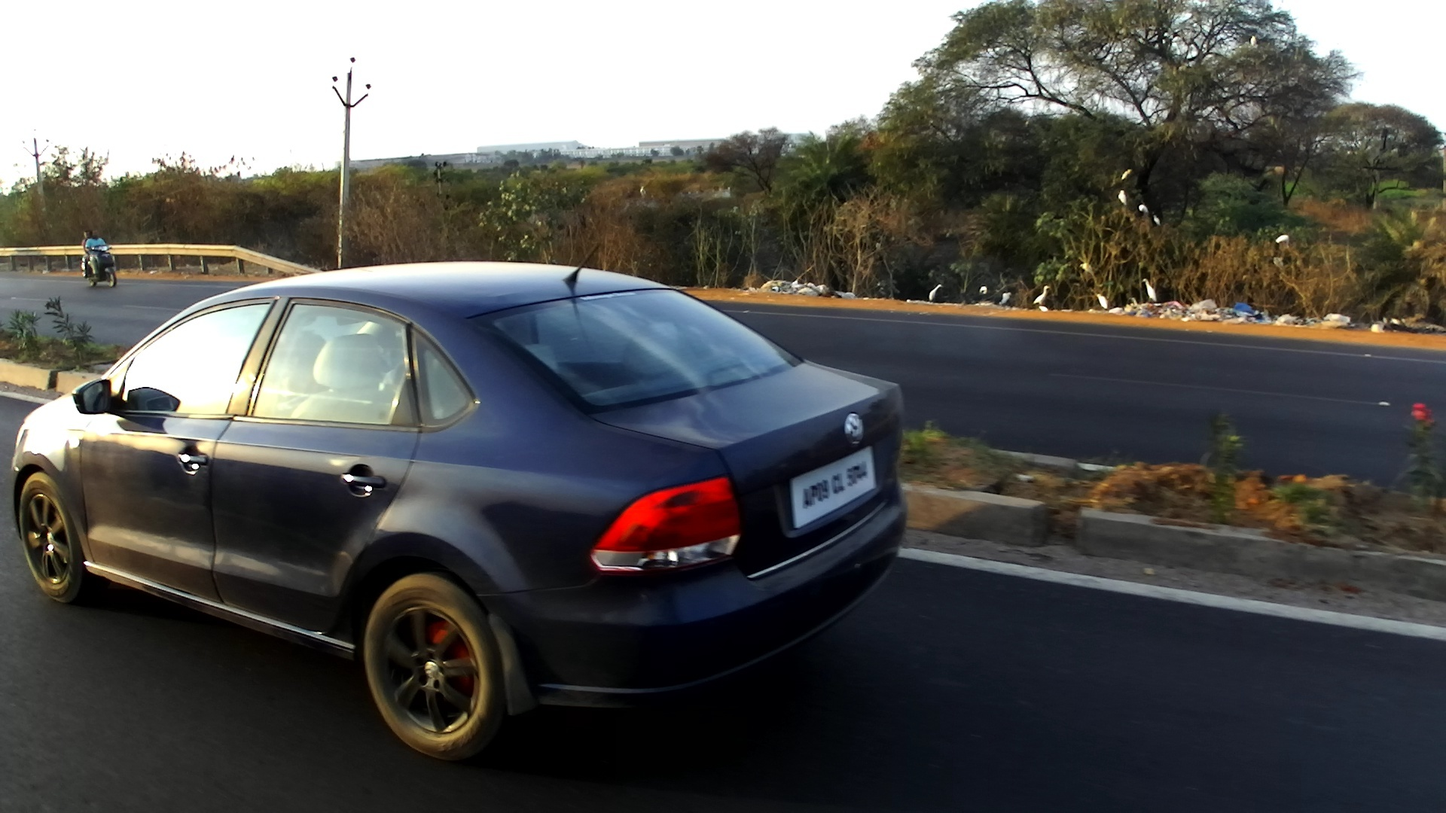car: (9, 242, 903, 764)
motorcycle: (79, 244, 118, 288)
rider: (78, 228, 102, 277), (86, 229, 108, 279)
